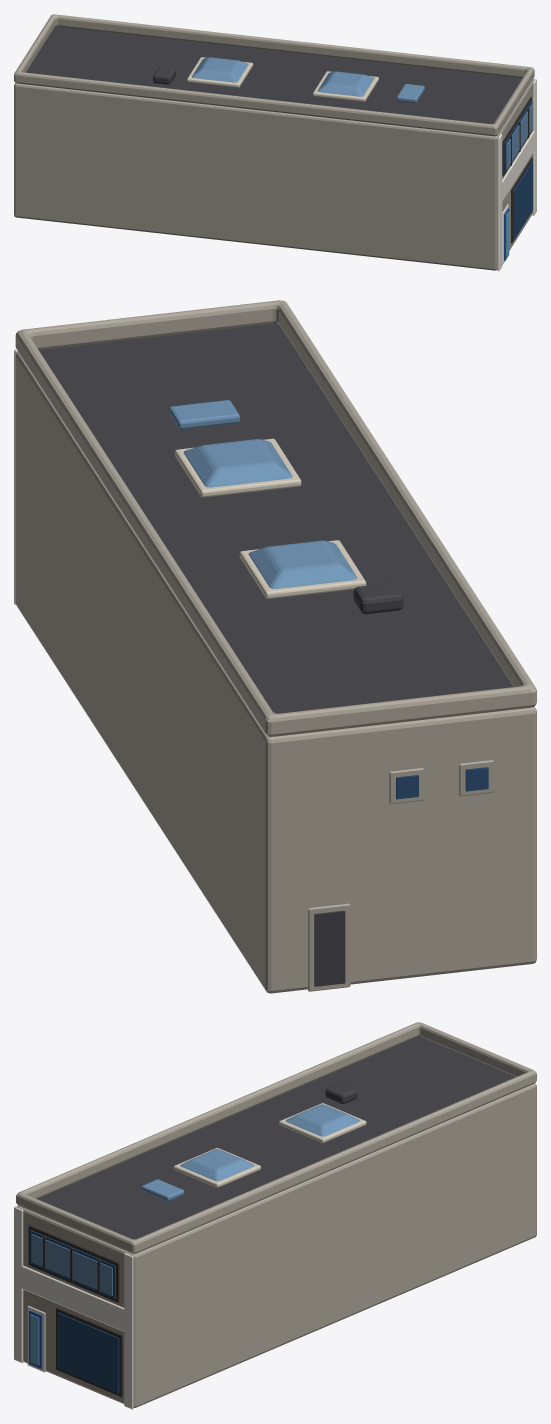
Rendered from 370-brannan.glb.
3 renders of one model, top to bottom at view 1: azimuth 30°, elevation 25°; view 2: azimuth 150°, elevation 25°; view 3: azimuth 270°, elevation 25°, orthographic. The views are drawn at different scales.
Visible parts, largest first — view 1: body, parapet, store_fill, skylight0, skylight1, frame_band, frame_pier_sw, upper_glow, frame_pier_ne, skylight_kerb0, skylight_kerb1, rooflight (+1 smaller); view 2: body, parapet, skylight0, skylight1, rdoor_fill, skylight_kerb0, skylight_kerb1, rooflight, rdoor_frame, roof_hatch; view 3: body, parapet, store_fill, frame_band, upper_glow, frame_pier_ne, skylight0, skylight1, frame_pier_sw, upper_frame, store_frame, skylight_kerb1 (+6 smaller).
Boxes of the visible parts, x1,y1,x2,y2 form: body: [14, 26, 533, 270]; parapet: [14, 14, 534, 136]; store_fill: [513, 161, 533, 239]; skylight0: [317, 71, 374, 96]; skylight1: [192, 57, 248, 82]; frame_band: [497, 128, 536, 206]; frame_pier_sw: [497, 134, 502, 271]; upper_glow: [506, 104, 532, 169]; frame_pier_ne: [532, 78, 536, 215]; skylight_kerb0: [313, 71, 378, 101]; skylight_kerb1: [187, 57, 253, 87]; rooflight: [396, 84, 424, 102]; body: [15, 323, 536, 993]; parapet: [15, 300, 536, 736]; skylight0: [183, 439, 292, 487]; skylight1: [248, 540, 357, 588]; rdoor_fill: [314, 910, 345, 986]; skylight_kerb0: [174, 438, 301, 497]; skylight_kerb1: [239, 540, 366, 598]; rooflight: [169, 400, 239, 429]; rdoor_frame: [308, 903, 350, 991]; roof_hatch: [353, 583, 403, 614]; body: [16, 1036, 536, 1407]; parapet: [16, 1022, 536, 1253]; store_fill: [57, 1312, 119, 1393]; frame_band: [14, 1263, 133, 1334]; upper_glow: [31, 1234, 112, 1295]; frame_pier_ne: [124, 1252, 133, 1409]; skylight0: [180, 1149, 254, 1181]; skylight1: [286, 1104, 359, 1136]; frame_pier_sw: [14, 1206, 23, 1363]; upper_frame: [28, 1225, 119, 1302]; store_frame: [56, 1308, 122, 1397]; skylight_kerb1: [279, 1103, 366, 1142].
Bounding box in the file's own units: 21.87 × 7.63 × 21.71.
